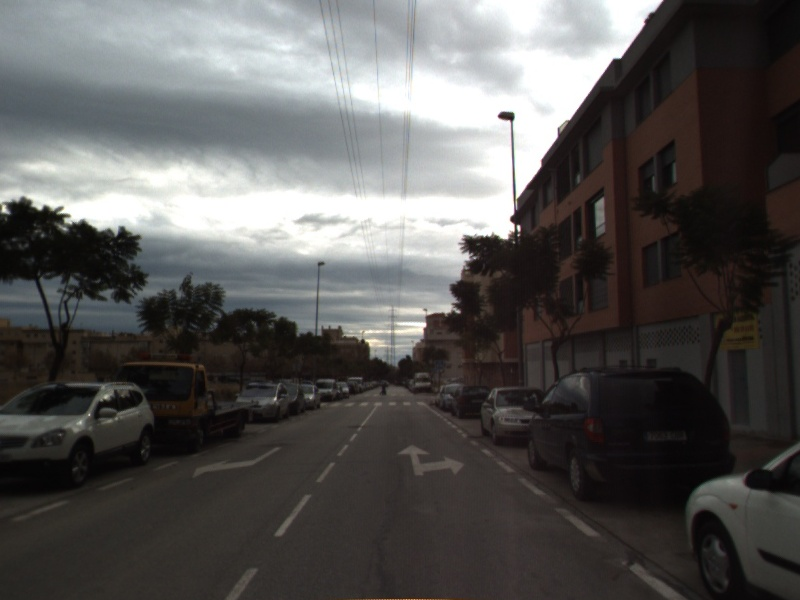STRAIGHT_RIGHT: (396, 442, 467, 478)
